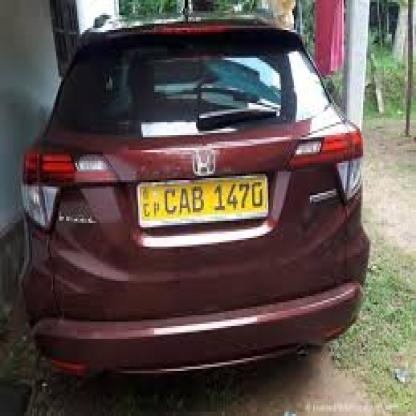car back: (25, 17, 370, 374)
number plate: (138, 178, 268, 221)
